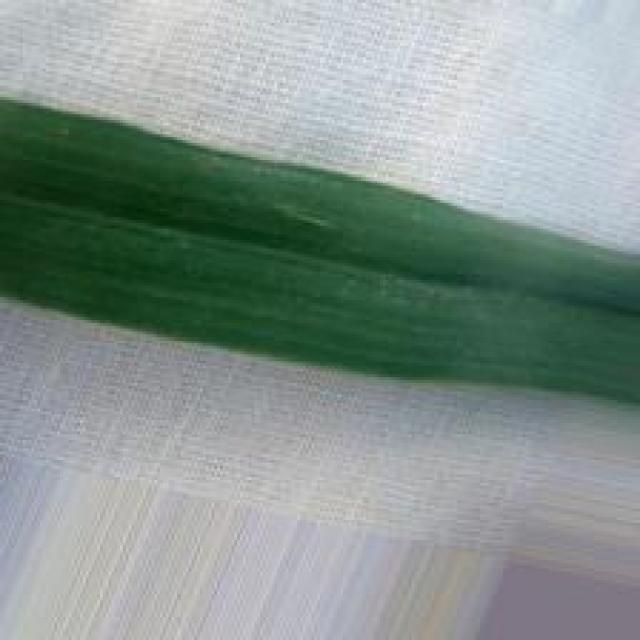Healthy: (0, 95, 640, 418)
